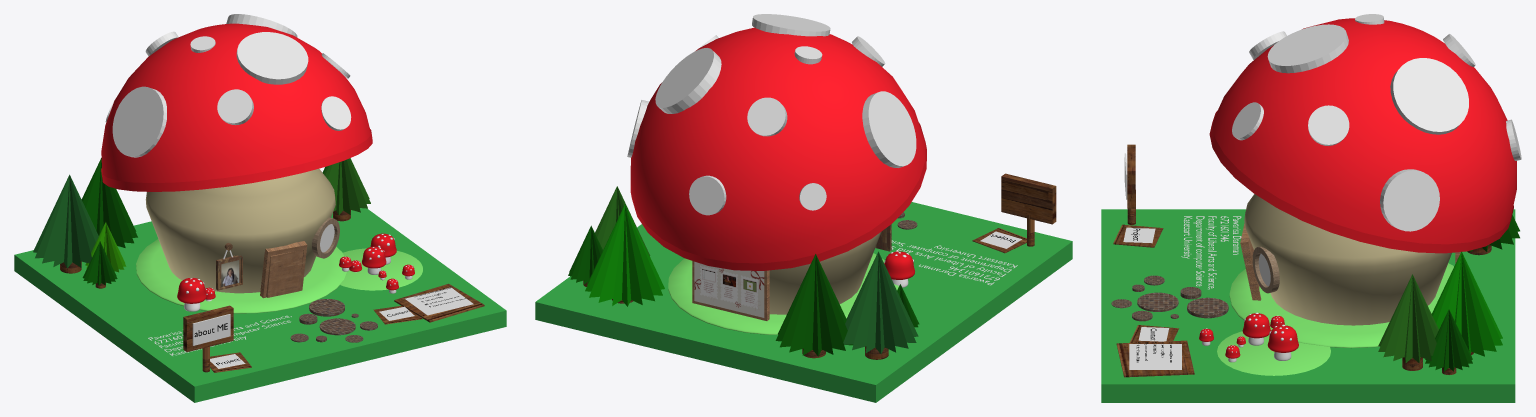
The model's file is Mashroom6.glb.
The picture shows the model from 3 angles, left to right: view 1: azimuth 30°, elevation 25°; view 2: azimuth 150°, elevation 25°; view 3: azimuth 270°, elevation 25°; orthographic projection. The views are drawn at different scales.
Visible parts, largest first — view 1: ระนาบ.001, ทรงกลม, ทรงกระบอก.001, ทรงกระบอก, ทรงกรวย.004, ทรงกระบอก.005, ทรงกระบอก.002, ทรงกรวย.003, ทรงกระบอก.032, ทรงกรวย, ระนาบ.003, ระนาบ.005 (+17 smaller); view 2: ทรงกลม, ระนาบ.001, ทรงกรวย.001, ทรงกรวย.004, ทรงกรวย.003, ทรงกระบอก.001, ทรงกระบอก.005, ทรงกระบอก, ระนาบ.007, ทรงกระบอก.003, ลูกบาศก์.001, ทรงกระบอก.002 (+8 smaller); view 3: ทรงกลม, ระนาบ.001, ทรงกระบอก.001, ทรงกระบอก.003, ทรงกระบอก, ทรงกรวย.001, ทรงกรวย, ทรงกระบอก.010, ทรงกระบอก.002, ทรงกระบอก.032, ทรงกรวย.002, ระนาบ.005 (+17 smaller).
Boxes of the visible parts, box(x1,y1,x2,y2) form: ระนาบ.001: box(14, 208, 506, 402); ทรงกลม: box(101, 23, 372, 191); ทรงกระบอก.001: box(145, 168, 335, 293); ทรงกระบอก: box(136, 239, 346, 313); ทรงกรวย.004: box(33, 174, 98, 268); ทรงกระบอก.005: box(112, 86, 166, 157); ทรงกระบอก.002: box(236, 32, 308, 84); ทรงกรวย.003: box(81, 158, 137, 247); ทรงกระบอก.032: box(340, 248, 422, 290); ทรงกรวย: box(324, 158, 370, 215); ระนาบ.003: box(266, 250, 303, 297); ระนาบ.005: box(405, 287, 473, 315); ทรงกลม: box(630, 27, 926, 270); ระนาบ.001: box(535, 202, 1072, 402); ทรงกรวย.001: box(585, 204, 664, 306); ทรงกรวย.004: box(843, 251, 918, 353); ทรงกรวย.003: box(775, 254, 853, 356); ทรงกระบอก.001: box(769, 232, 881, 314); ทรงกระบอก.005: box(862, 91, 916, 167); ทรงกระบอก: box(668, 253, 898, 334); ระนาบ.007: box(694, 261, 764, 317); ทรงกระบอก.003: box(655, 48, 721, 113); ลูกบาศก์.001: box(1001, 173, 1056, 224); ทรงกระบอก.002: box(752, 14, 830, 36); ทรงกลม: box(1209, 18, 1516, 253); ระนาบ.001: box(1101, 209, 1515, 402); ทรงกระบอก.001: box(1244, 194, 1451, 325); ทรงกระบอก.003: box(1390, 58, 1468, 134); ทรงกระบอก: box(1229, 263, 1453, 348); ทรงกรวย.001: box(1432, 251, 1502, 356); ทรงกรวย: box(1378, 274, 1438, 362); ทรงกระบอก.010: box(1380, 169, 1439, 231); ทรงกระบอก.002: box(1267, 24, 1348, 73); ทรงกระบอก.032: box(1217, 331, 1330, 375); ทรงกรวย.002: box(1425, 309, 1472, 371); ระนาบ.005: box(1129, 344, 1181, 369).
Bounding box in the file's own units: 10.15 × 7.68 × 10.15.
Materials: 38 (20 with a texture image).
